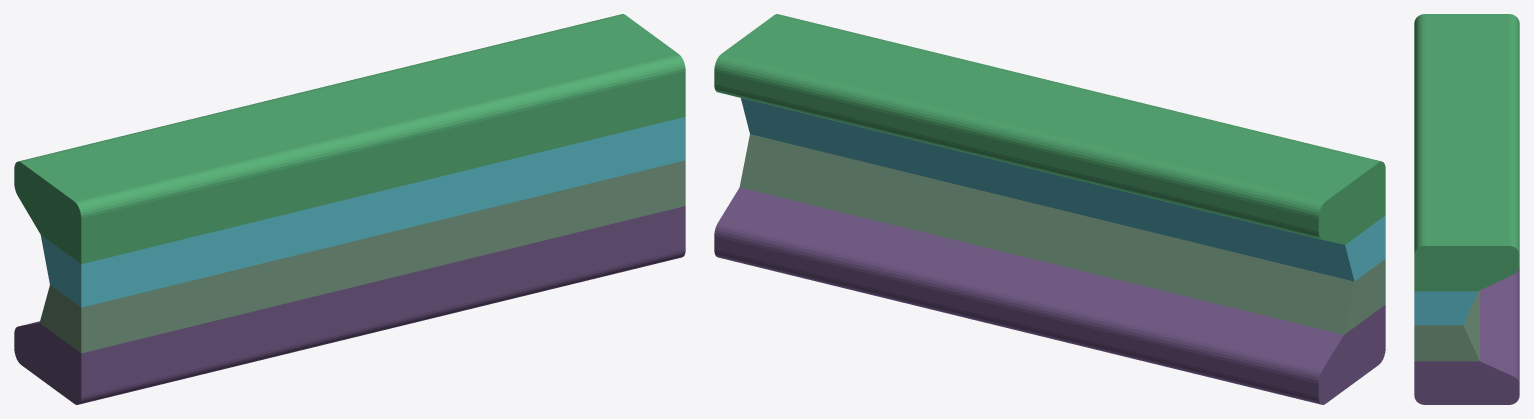
File: peg_36_canonical.obj
3 views of the same model, side by side, from view 1: azimuth 30°, elevation 25°; view 2: azimuth 150°, elevation 25°; view 3: azimuth 270°, elevation 25° (orthographic). The views are drawn at different scales.
Visible parts, largest first — view 1: geometry_3, geometry_1, geometry_0, geometry_2; view 2: geometry_3, geometry_1, geometry_0, geometry_2; view 3: geometry_3, geometry_1, geometry_0, geometry_2.
Part boxes in pixels (box(x1,y1,x2,y2)): geometry_3: box(14, 14, 685, 264); geometry_1: box(14, 206, 685, 404); geometry_0: box(39, 160, 685, 353); geometry_2: box(40, 117, 685, 307); geometry_3: box(714, 14, 1385, 244); geometry_1: box(714, 187, 1385, 404); geometry_0: box(739, 134, 1385, 334); geometry_2: box(741, 98, 1385, 281); geometry_3: box(1414, 14, 1519, 291); geometry_1: box(1414, 267, 1519, 404); geometry_0: box(1414, 290, 1479, 361); geometry_2: box(1414, 291, 1477, 325).
Bounding box in the file's own units: 0.15 × 0.048 × 0.0288.
